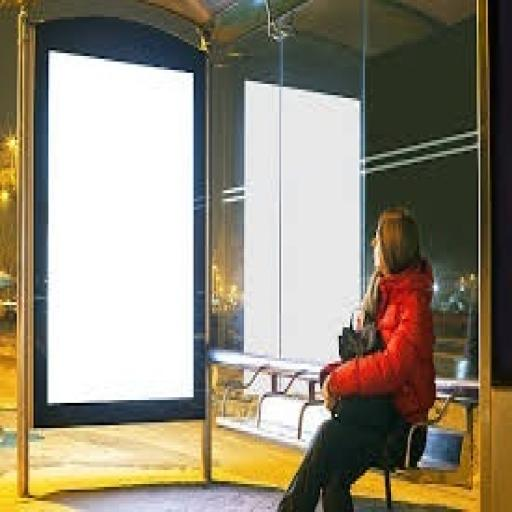sitting: (272, 202, 437, 510)
